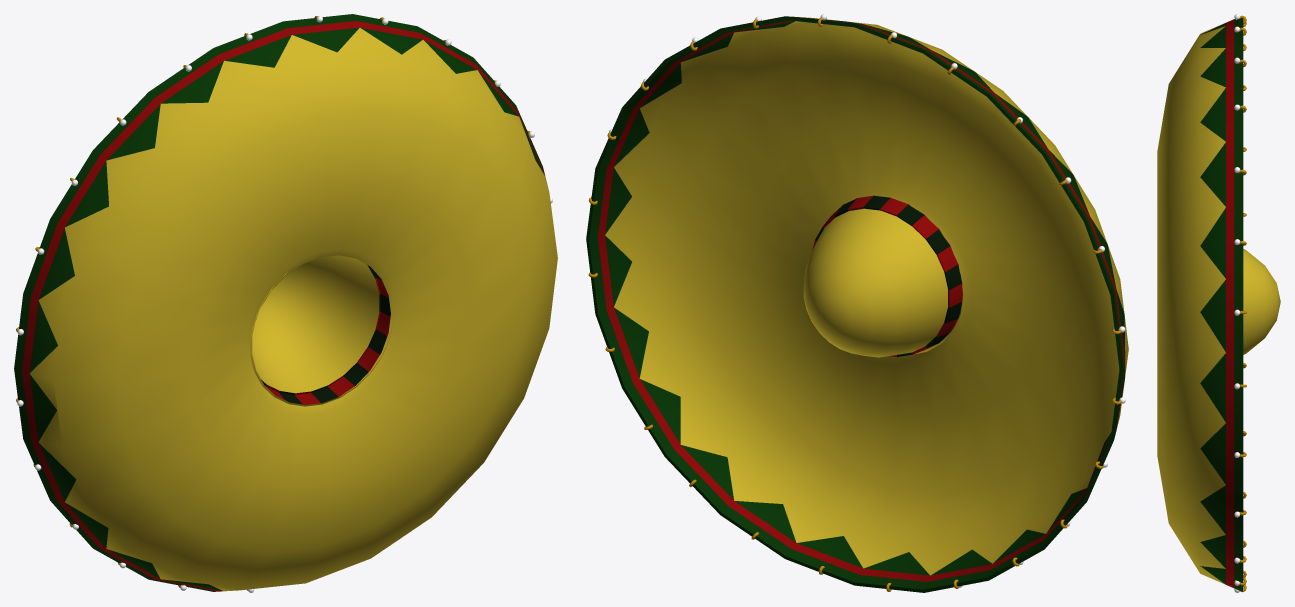
File: sobrero.FBX
The picture shows the model from 3 angles, left to right: view 1: azimuth 30°, elevation 25°; view 2: azimuth 150°, elevation 25°; view 3: azimuth 270°, elevation 25°; orthographic projection. The views are drawn at different scales.
Visible parts, largest first — view 1: sobrero hat; view 2: sobrero hat; view 3: sobrero hat.
Boxes of the visible parts, x1,y1,x2,y2 form: sobrero hat: [14, 14, 557, 592]; sobrero hat: [586, 14, 1128, 592]; sobrero hat: [1157, 14, 1280, 592].
Bounding box in the file's own units: 58.08 × 12.41 × 58.08.
